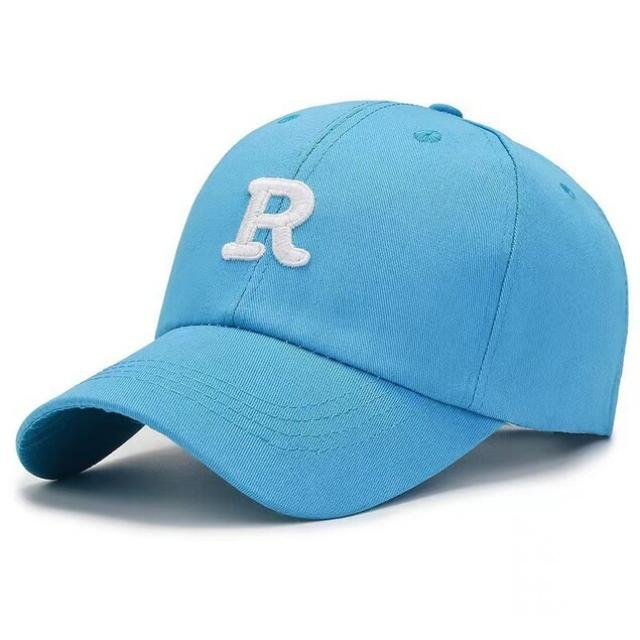Nonhelmet: (14, 96, 629, 521)
